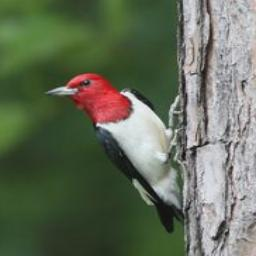Woodpecker: (39, 72, 191, 232)
